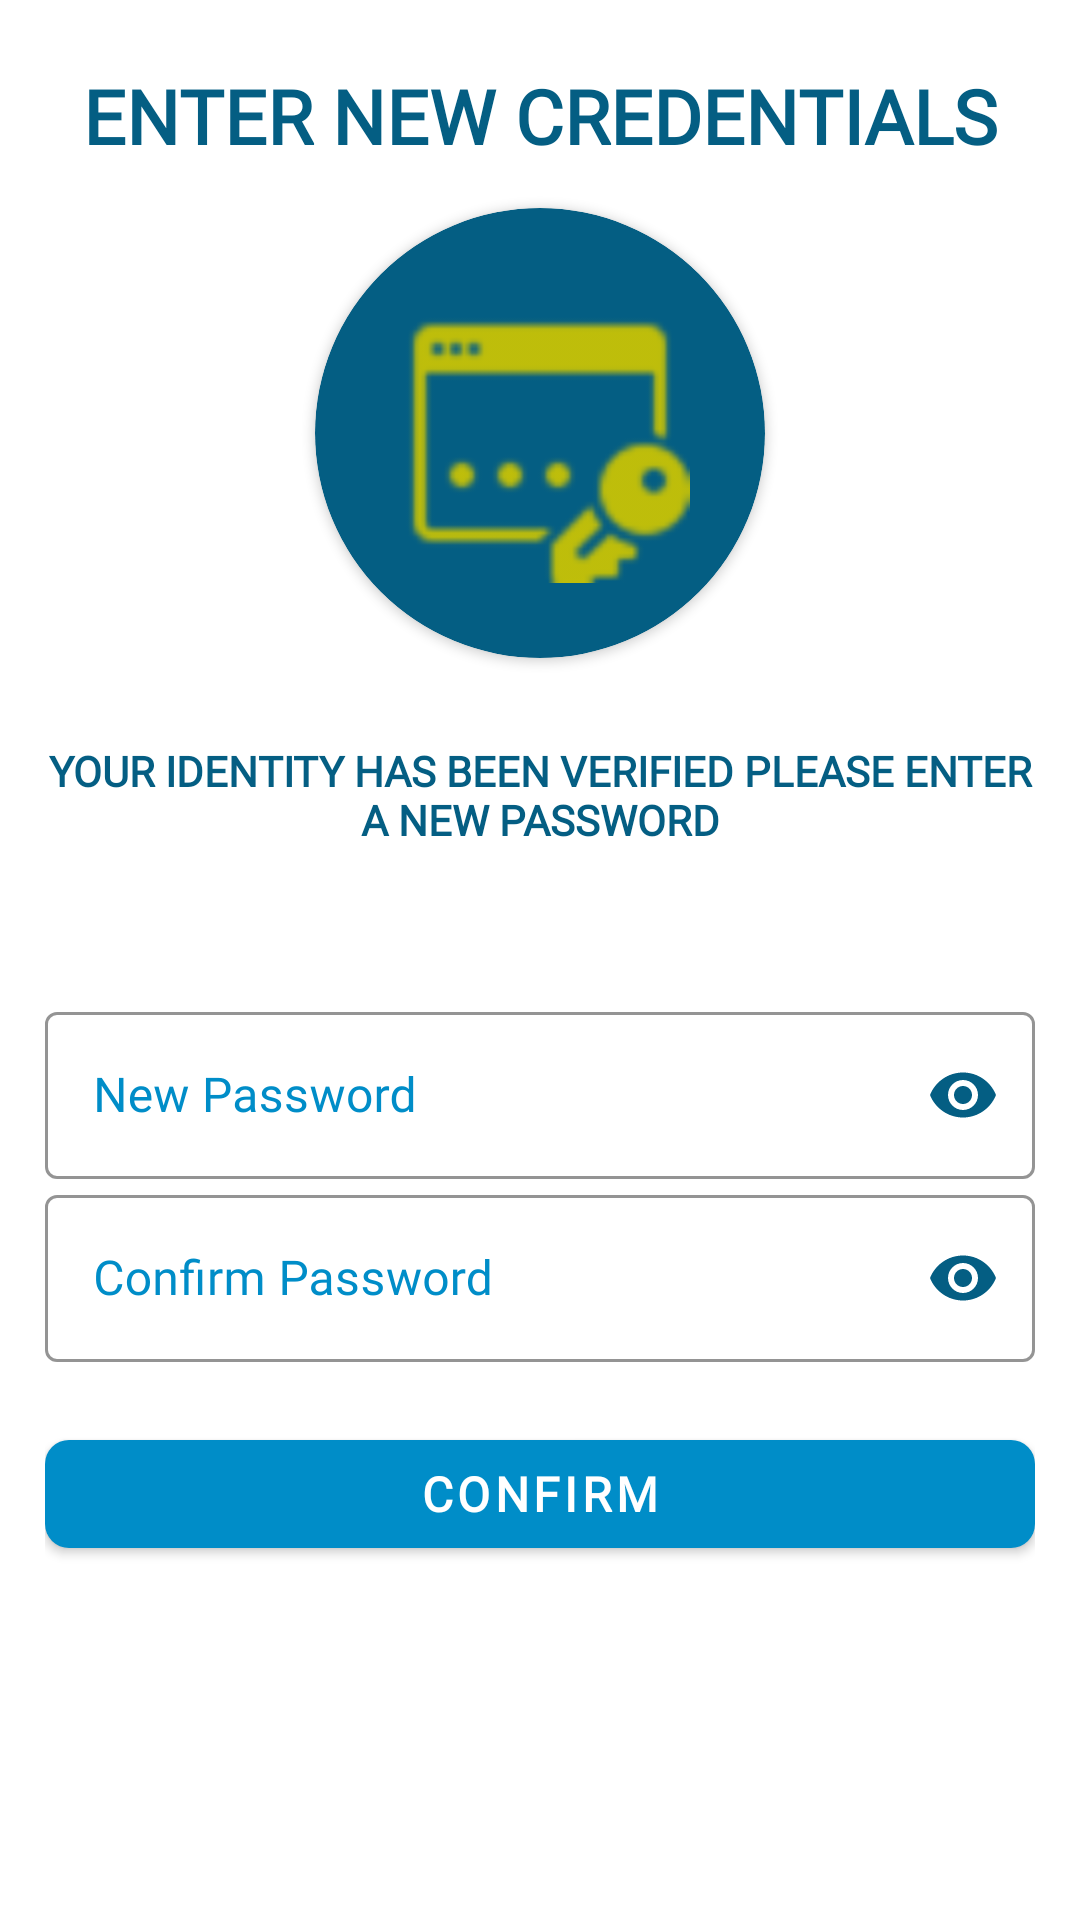

Named icons in this screenshot (1080x1920) and their bounding boxes, (x1, y1, x2, y2):
password window: (411, 322, 690, 583)
